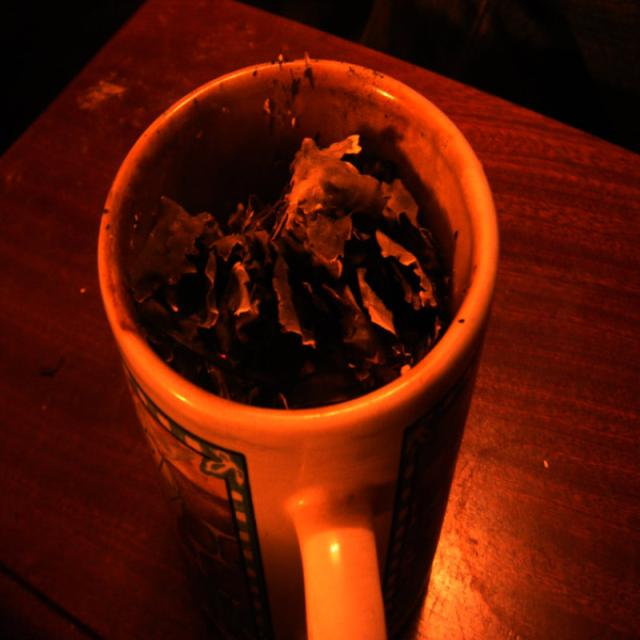Cup: (93, 48, 550, 640)
Table: (0, 0, 640, 640)
